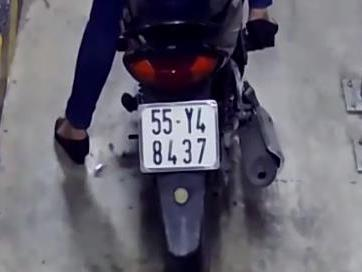num_plate: (139, 103, 219, 168)
